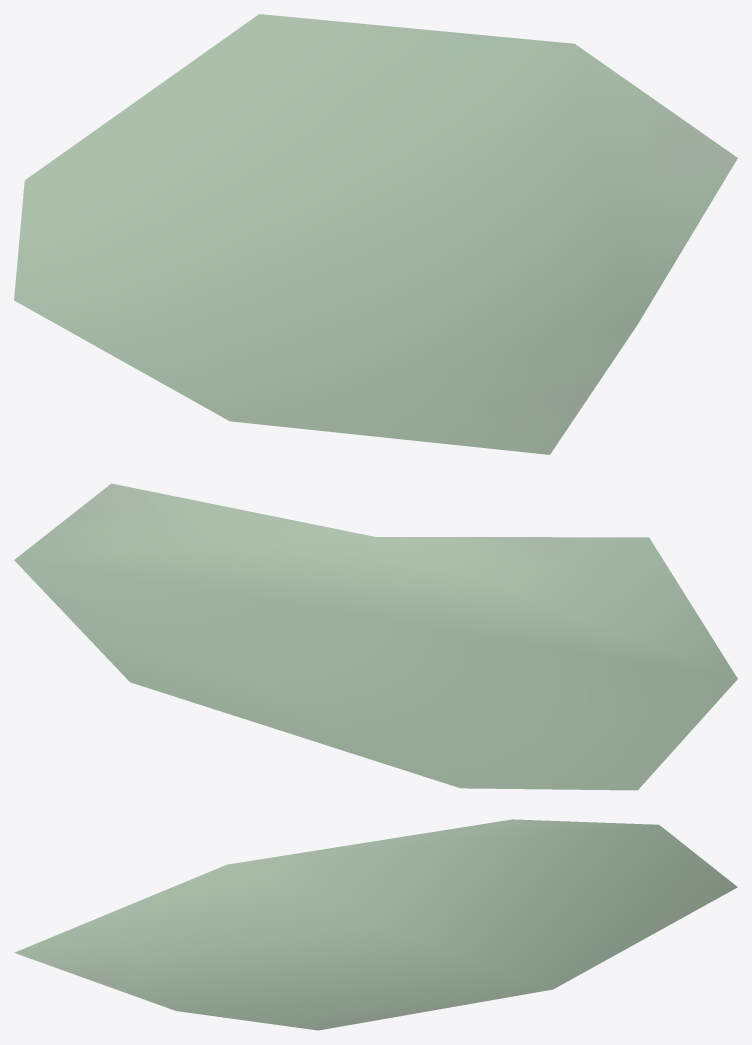
Rendered from TROLLHOLE02_HOLECAP56.fbx.
The picture shows the model from 3 angles, top to bottom: view 1: azimuth 30°, elevation 25°; view 2: azimuth 150°, elevation 25°; view 3: azimuth 270°, elevation 25°; orthographic projection. The views are drawn at different scales.
Visible parts, largest first — view 1: TROLLHOLE02_HOLECAP56; view 2: TROLLHOLE02_HOLECAP56; view 3: TROLLHOLE02_HOLECAP56.
Part boxes in pixels (x1=…): TROLLHOLE02_HOLECAP56: x1=14, y1=14, x2=737, y2=454; TROLLHOLE02_HOLECAP56: x1=14, y1=483, x2=737, y2=790; TROLLHOLE02_HOLECAP56: x1=14, y1=819, x2=737, y2=1030.
Size of the model in its own units: 19402 by 3795 by 21624.
1 material, 1 textured.
